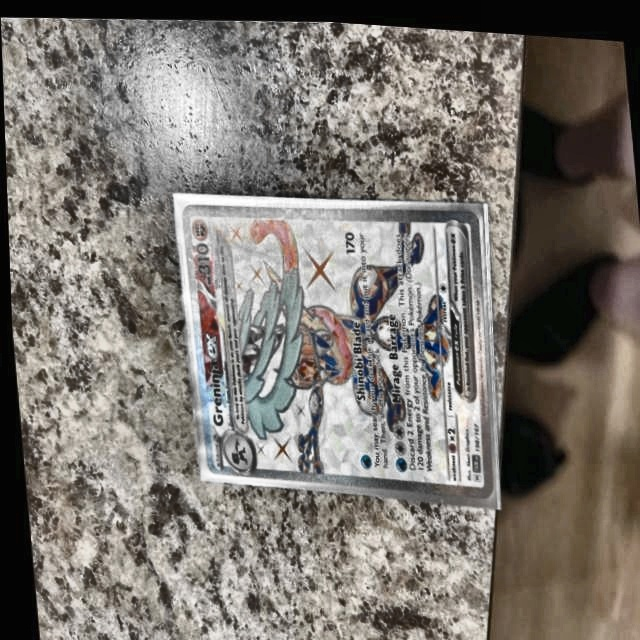card: (179, 201, 490, 494)
